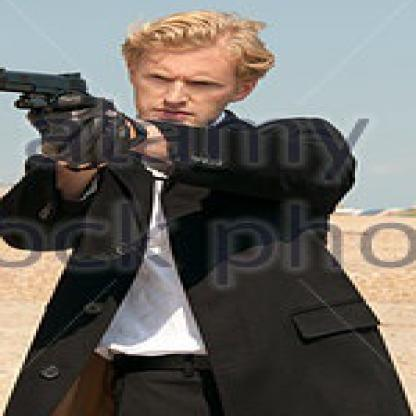gun: (0, 64, 97, 115)
